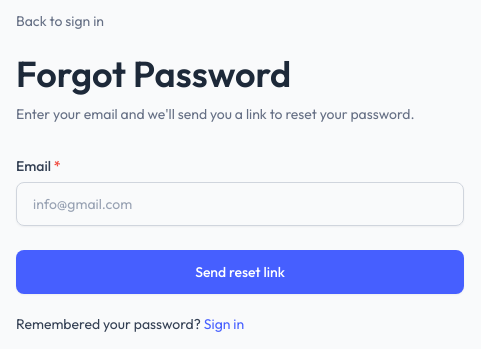
it: AUTH-06: ForgotPasswordForm calls authClient.requestPasswordReset with the verified signature › loading: the submit button is disabled and shows a loading label while the request is in flight
The image size is (481, 349).
Type "admin@example.com" into the field with placeholder "info@gmail.com". click: point(240, 204)
box: left=16, top=182, right=464, bottom=226
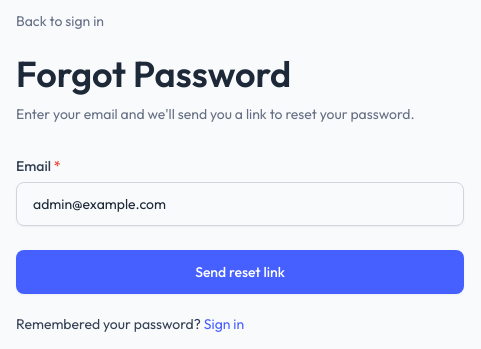
Submit the form, box left=16, top=156, right=464, bottom=294
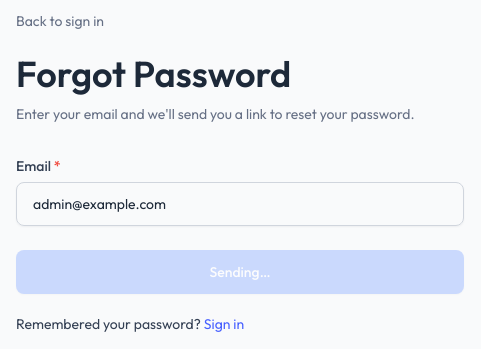
Result: the button "Sending…" is disabled at left=16, top=250, right=464, bottom=294
